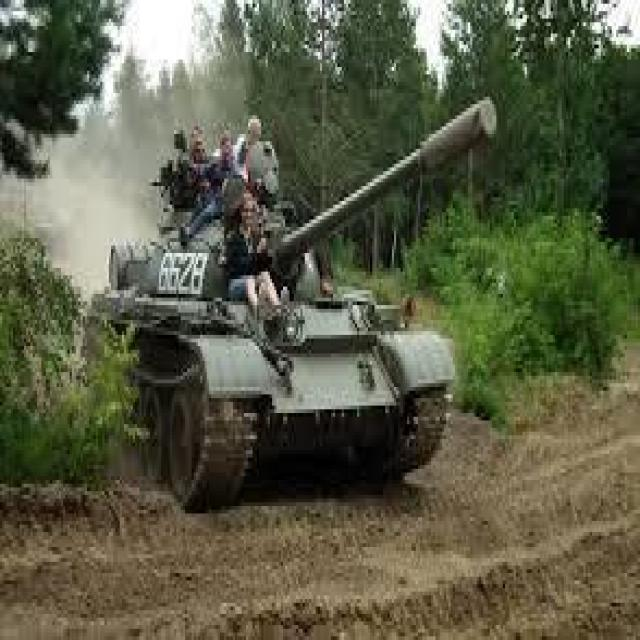Tanks: (84, 165, 473, 508)
